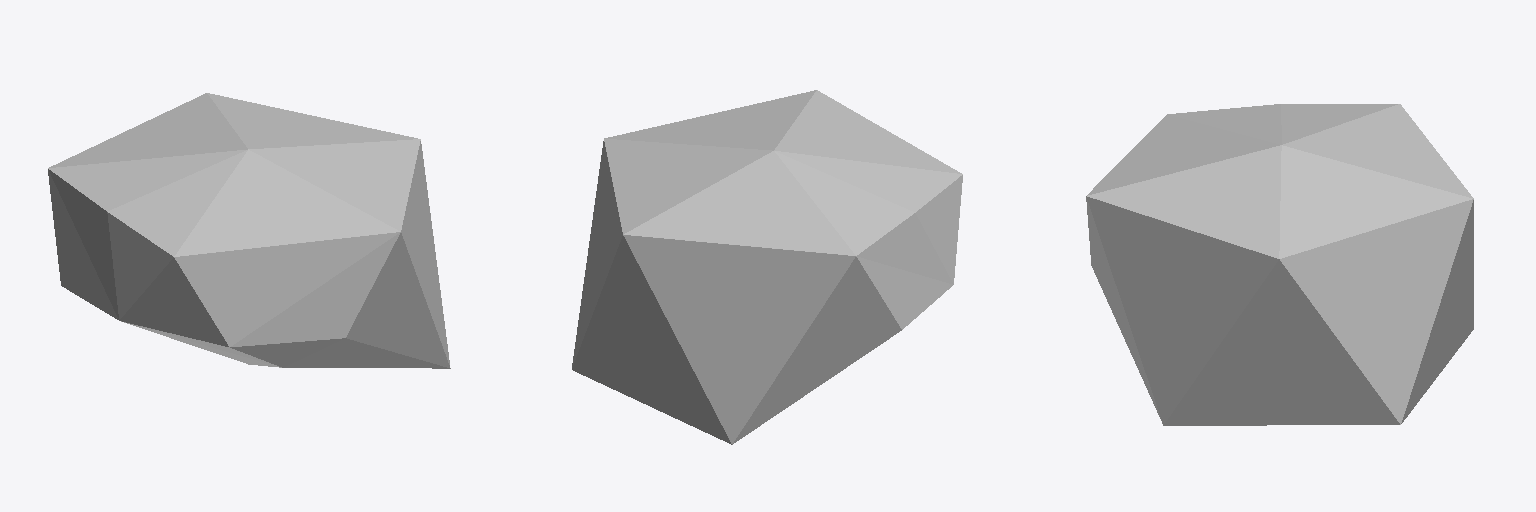
File: rock_s.obj
The picture shows the model from 3 angles: view 1: azimuth 30°, elevation 25°; view 2: azimuth 150°, elevation 25°; view 3: azimuth 270°, elevation 25°; orthographic projection.
Visible parts, largest first — view 1: Rock1_Icosphere.000; view 2: Rock1_Icosphere.000; view 3: Rock1_Icosphere.000.
Part boxes in pixels (x1,y1,x2,y2): Rock1_Icosphere.000: (48,93,450,368); Rock1_Icosphere.000: (572,90,962,444); Rock1_Icosphere.000: (1086,104,1473,425).
Bounding box in the file's own units: 3.03 × 1.89 × 3.09.